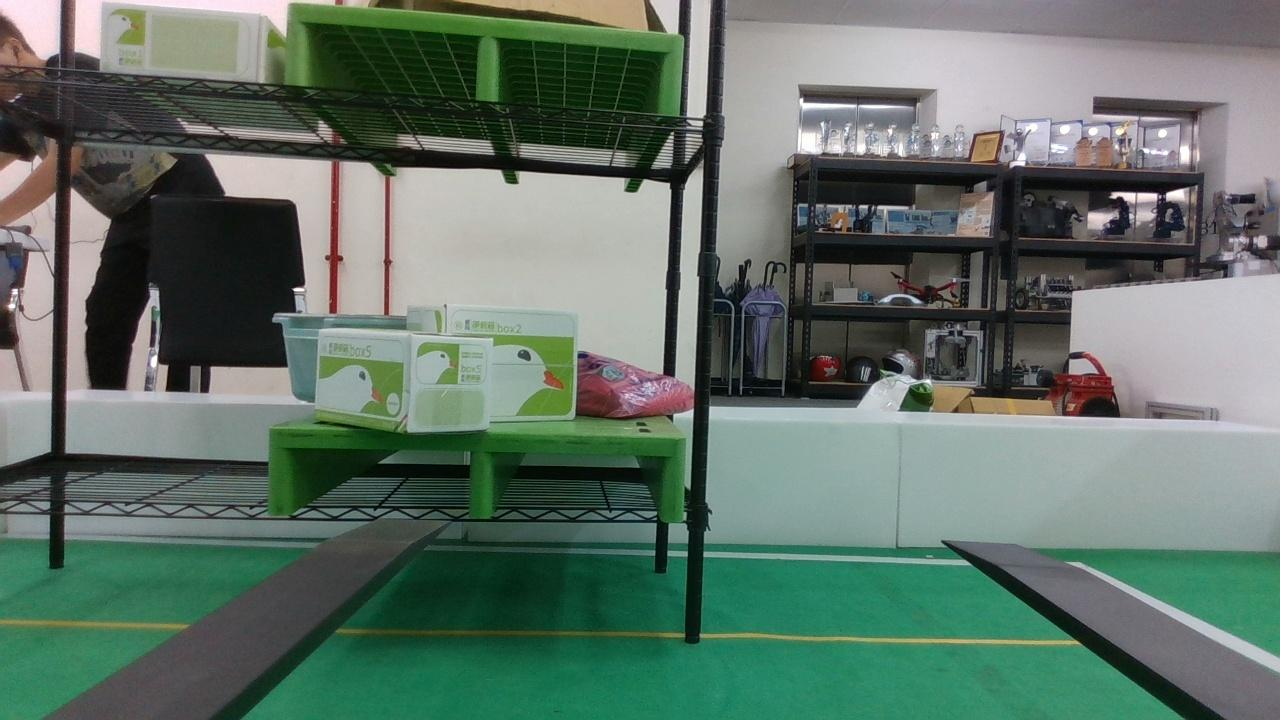Pallet: (287, 4, 685, 115), (268, 425, 687, 521)
